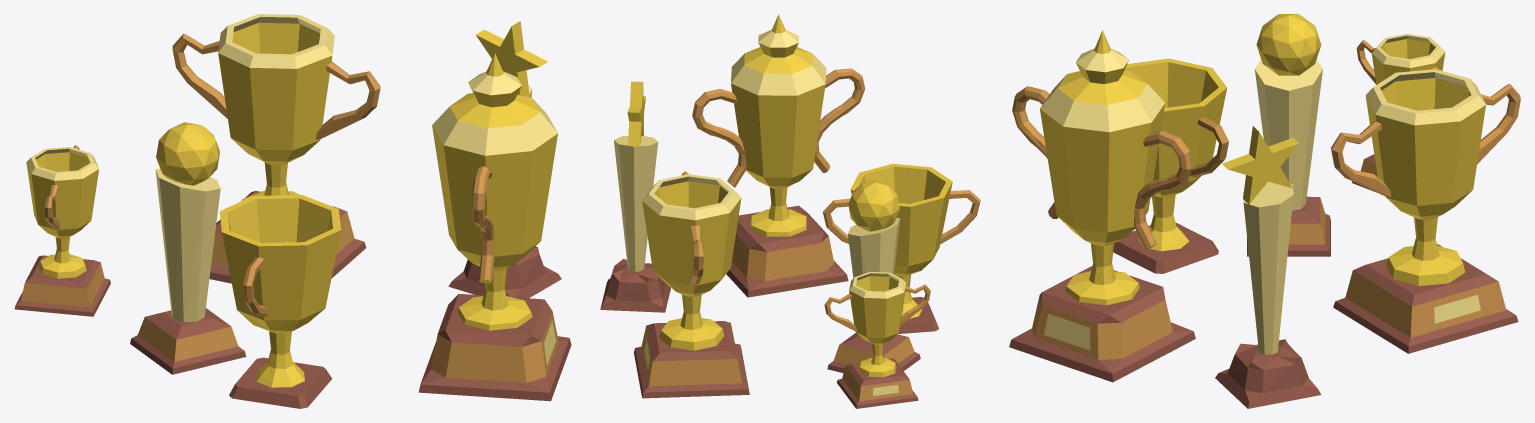
File: trophee.glb
The picture shows the model from 3 angles, left to right: view 1: azimuth 30°, elevation 25°; view 2: azimuth 150°, elevation 25°; view 3: azimuth 270°, elevation 25°; orthographic projection. The views are drawn at different scales.
Visible parts, largest first — view 1: trophy_L_trophy1_0.001, trophy_M_trophy1_0.001, trophy_S_trophy1_0.001, ball trophy_trophy1_0.001, trophy_M_trophy1_0.002, star trophy_trophy1_0.001; view 2: trophy_L_trophy1_0.001, trophy_M_trophy1_0.001, trophy_S_trophy1_0.001, star trophy_trophy1_0.001, trophy_M_trophy1_0.002, ball trophy_trophy1_0.001; view 3: trophy_L_trophy1_0.001, trophy_M_trophy1_0.001, star trophy_trophy1_0.001, trophy_S_trophy1_0.001, ball trophy_trophy1_0.001, trophy_M_trophy1_0.002.
Boxes of the visible parts, x1,y1,x2,y2 form: trophy_L_trophy1_0.001: (418,53,571,401); trophy_M_trophy1_0.001: (172,14,380,283); trophy_S_trophy1_0.001: (219,195,340,408); ball trophy_trophy1_0.001: (130,122,246,374); trophy_M_trophy1_0.002: (14,145,110,316); star trophy_trophy1_0.001: (448,21,561,298); trophy_L_trophy1_0.001: (692,14,864,297); trophy_M_trophy1_0.001: (634,171,749,398); trophy_S_trophy1_0.001: (823,163,980,333); star trophy_trophy1_0.001: (600,81,670,312); trophy_M_trophy1_0.002: (824,272,930,408); ball trophy_trophy1_0.001: (827,180,920,373); trophy_L_trophy1_0.001: (1009,30,1195,382); trophy_M_trophy1_0.001: (1331,69,1520,353); star trophy_trophy1_0.001: (1215,126,1321,408); trophy_S_trophy1_0.001: (1113,58,1228,273); ball trophy_trophy1_0.001: (1247,14,1330,256); trophy_M_trophy1_0.002: (1352,33,1445,191).
Bounding box in the file's own units: 0.423 × 0.2733 × 0.405.
Materials: 2 (2 with a texture image).
